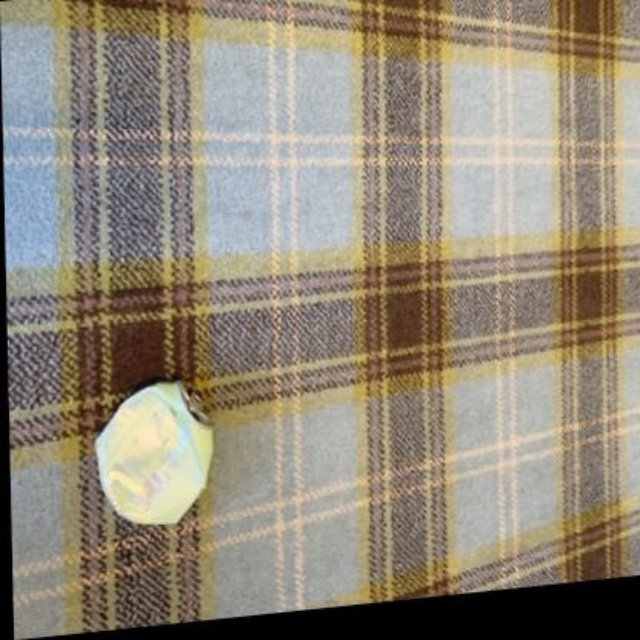trash: (95, 382, 212, 523)
